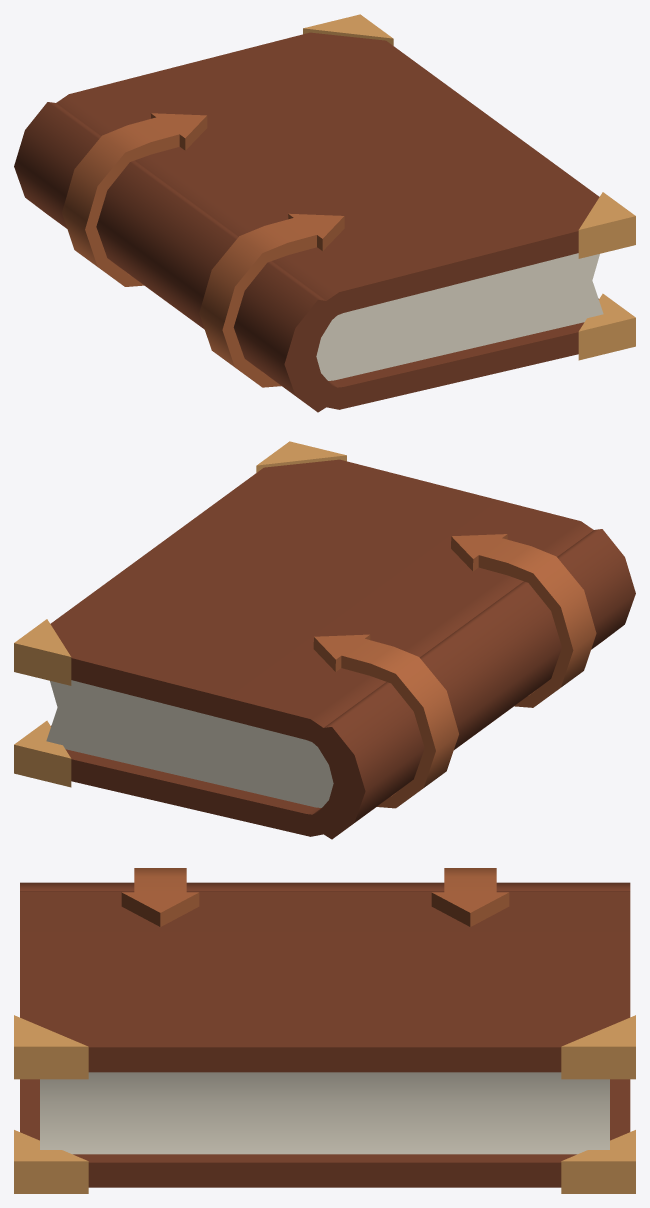
The model's file is Book_E.fbx.
3 views of the same model, one above another, from view 1: azimuth 30°, elevation 25°; view 2: azimuth 150°, elevation 25°; view 3: azimuth 270°, elevation 25° (orthographic). The views are drawn at different scales.
Visible parts, largest first — view 1: Book_E; view 2: Book_E; view 3: Book_E.
Part boxes in pixels (x1=…): Book_E: x1=14, y1=14, x2=635, y2=412; Book_E: x1=14, y1=441, x2=635, y2=839; Book_E: x1=14, y1=868, x2=635, y2=1193.
Bounding box in the file's own units: 26.37 × 10.23 × 34.95.
